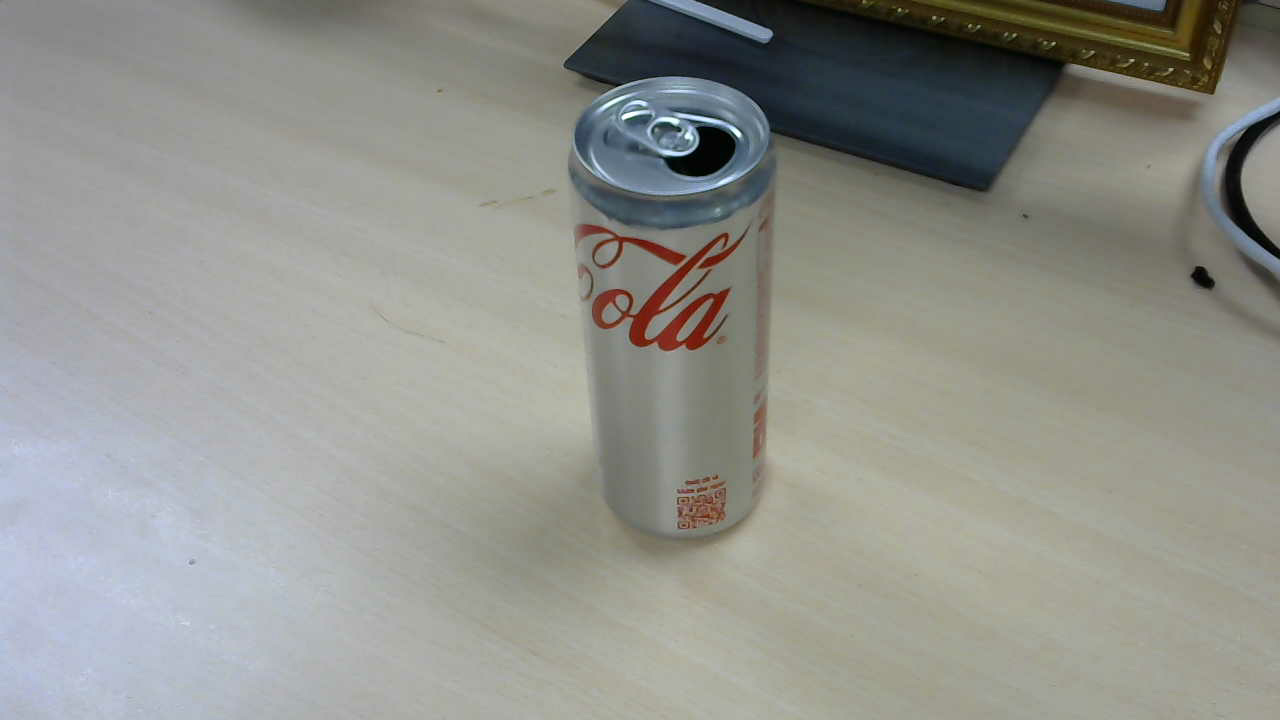Coca_Cola: (571, 81, 784, 545)
